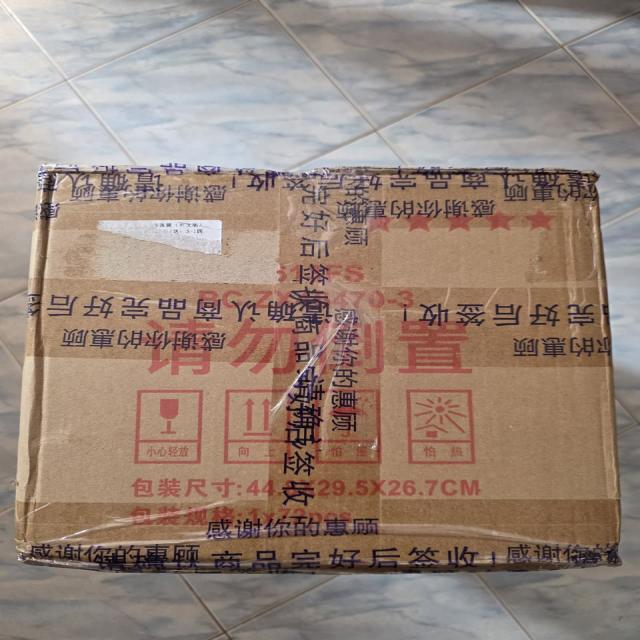carton_box: (6, 126, 640, 582)
fragile_label: (122, 384, 216, 471)
keep_dry_label: (303, 383, 395, 475)
package_damage: (48, 548, 571, 578), (17, 151, 80, 282)
protect_from_heat_label: (403, 373, 488, 478)
this_side_up_label: (223, 375, 304, 467)
